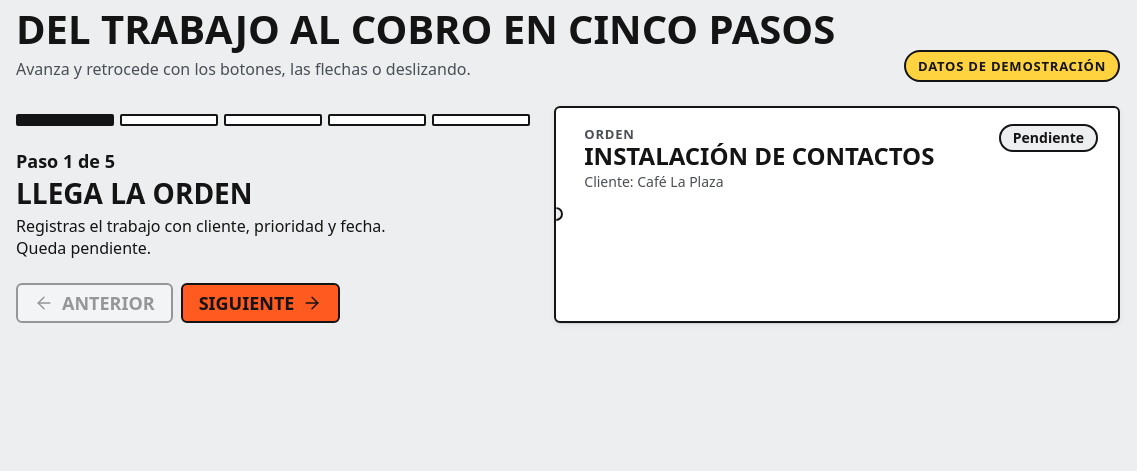
FlowDemo › en el último paso muestra folio y sello, y Empezar de nuevo reinicia
The image size is (1137, 471).
Click the button "Siguiente" at coordinates (261, 303), box [181, 283, 340, 323]
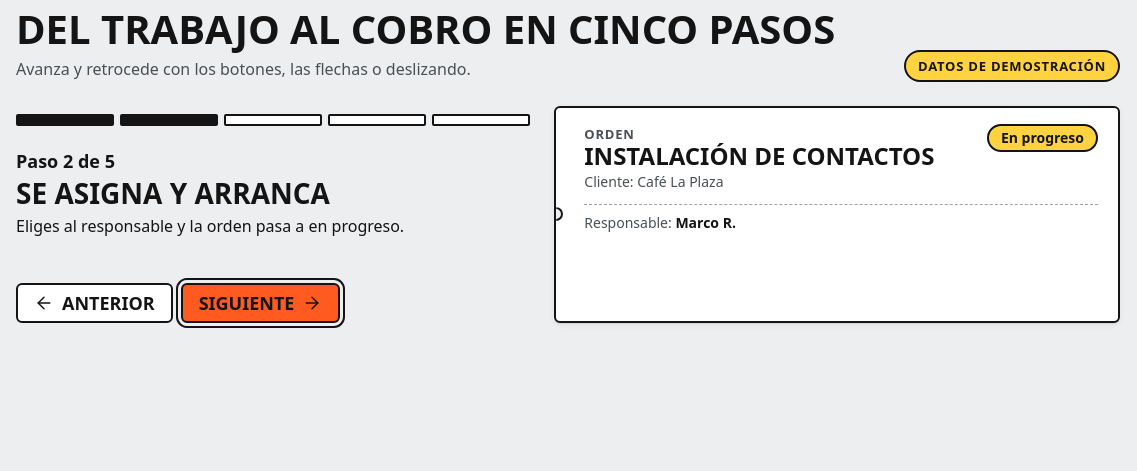
Click the button "Siguiente" at coordinates (261, 303), box [181, 283, 340, 323]
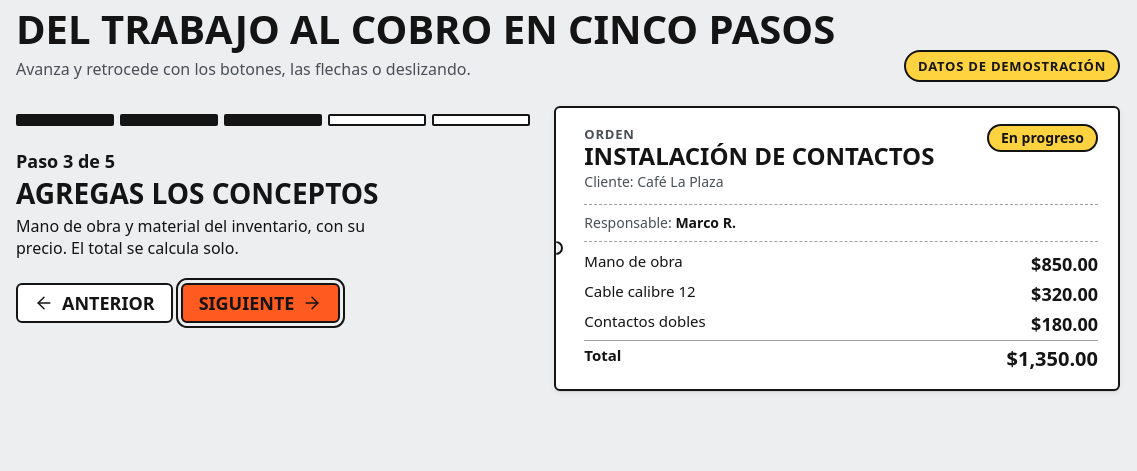
Click the button "Siguiente" at coordinates (261, 303), box [181, 283, 340, 323]
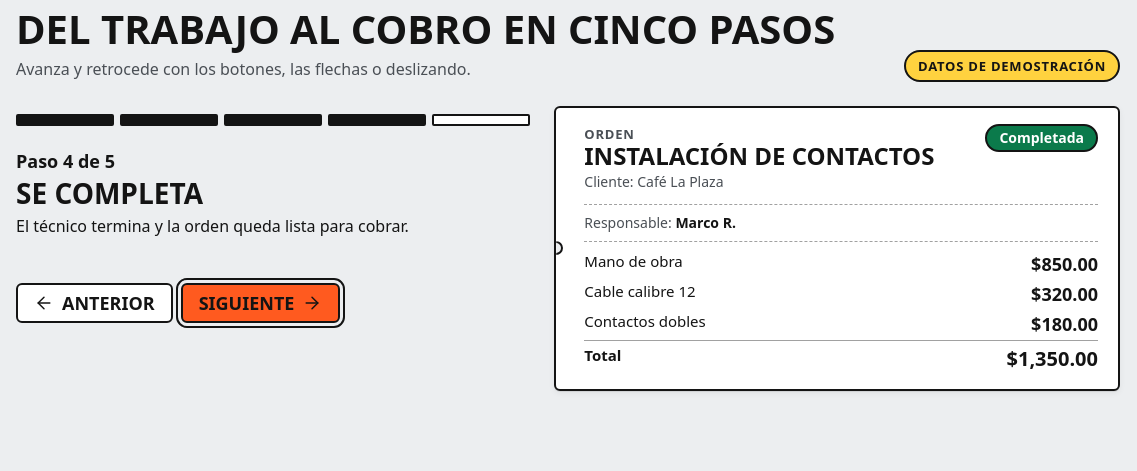
Click the button "Siguiente" at coordinates (261, 303), box [181, 283, 340, 323]
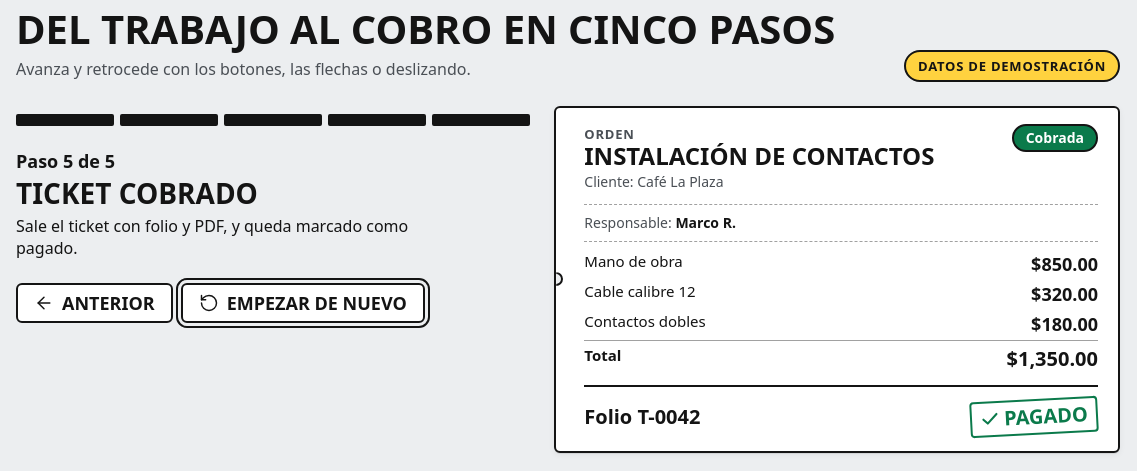
Expected: the text "Paso 5 de 5" is shown, [16, 149, 115, 173]
Expected: the text "Folio T-0042" is shown, [584, 403, 700, 431]
Expected: the text "Pagado" is shown, [969, 396, 1099, 438]
Click the button "Empezar de nuevo" at coordinates (303, 303), box [181, 283, 425, 323]
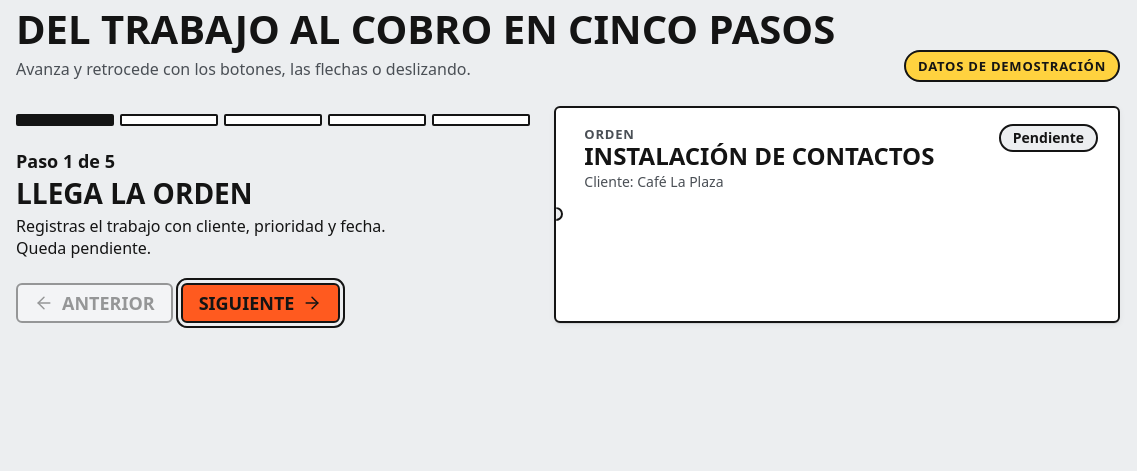
Expected: the text "Paso 1 de 5" is shown, [16, 149, 115, 173]
Expected: the text "pagado" is gone
